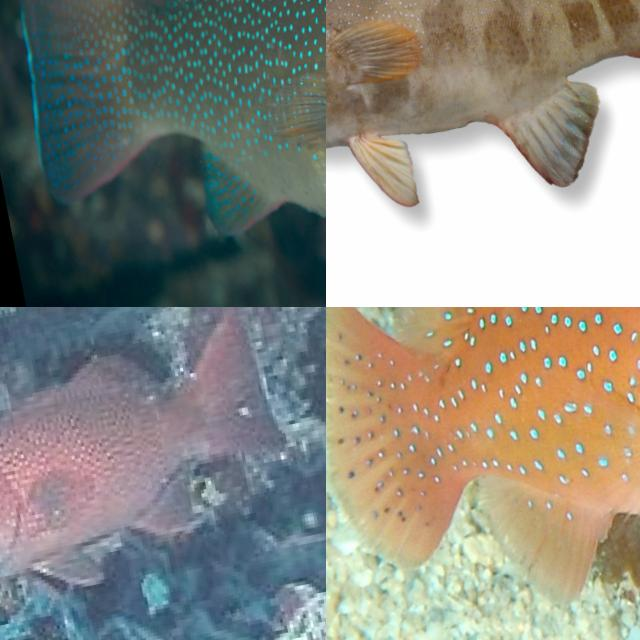Leopard coral grouper: (0, 307, 326, 640), (326, 307, 640, 640), (0, 0, 326, 306), (326, 0, 640, 287)
